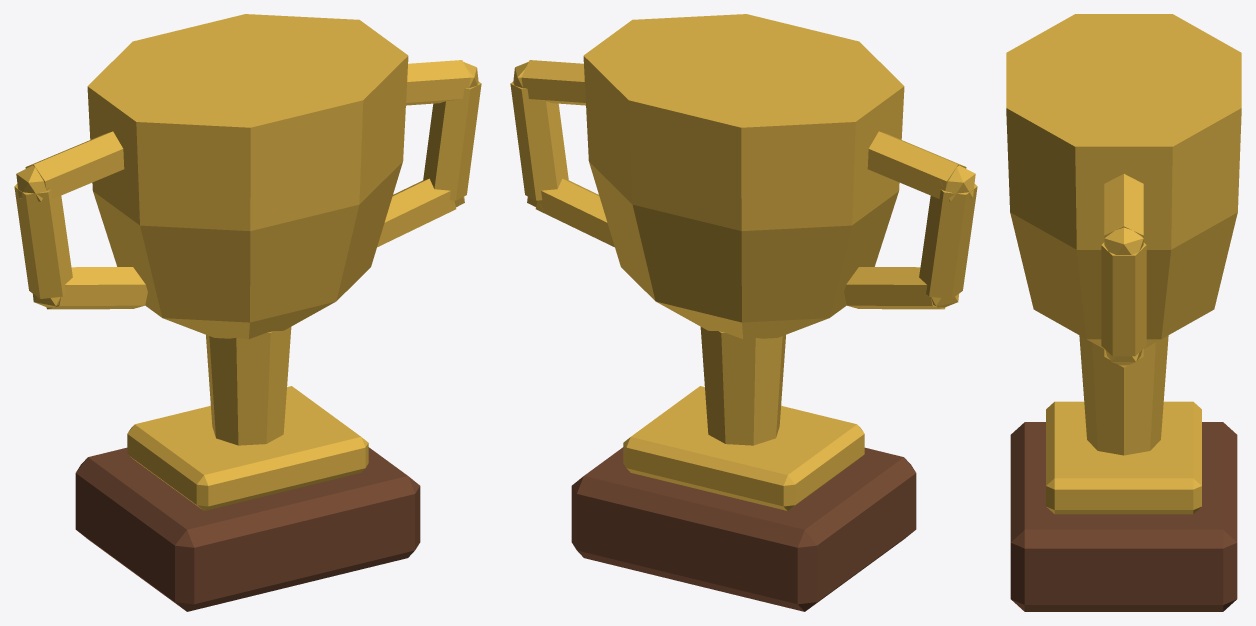
Rendered from Lodge_TrophyEmblem.fbx.
3 renders of one model, left to right at view 1: azimuth 30°, elevation 25°; view 2: azimuth 150°, elevation 25°; view 3: azimuth 270°, elevation 25°, orthographic.
Parts seen in each view (by area): view 1: Trophy, FnWoodDark; view 2: Trophy, FnWoodDark; view 3: Trophy, FnWoodDark.
Boxes of the visible parts, <box> form: Trophy: <box>14,14,481,510</box>; FnWoodDark: <box>75,447,420,611</box>; Trophy: <box>510,14,977,510</box>; FnWoodDark: <box>571,447,916,611</box>; Trophy: <box>1006,14,1241,514</box>; FnWoodDark: <box>1010,422,1237,611</box>.
Size of the model in its own units: 1.87 by 1.86 by 0.8315.
